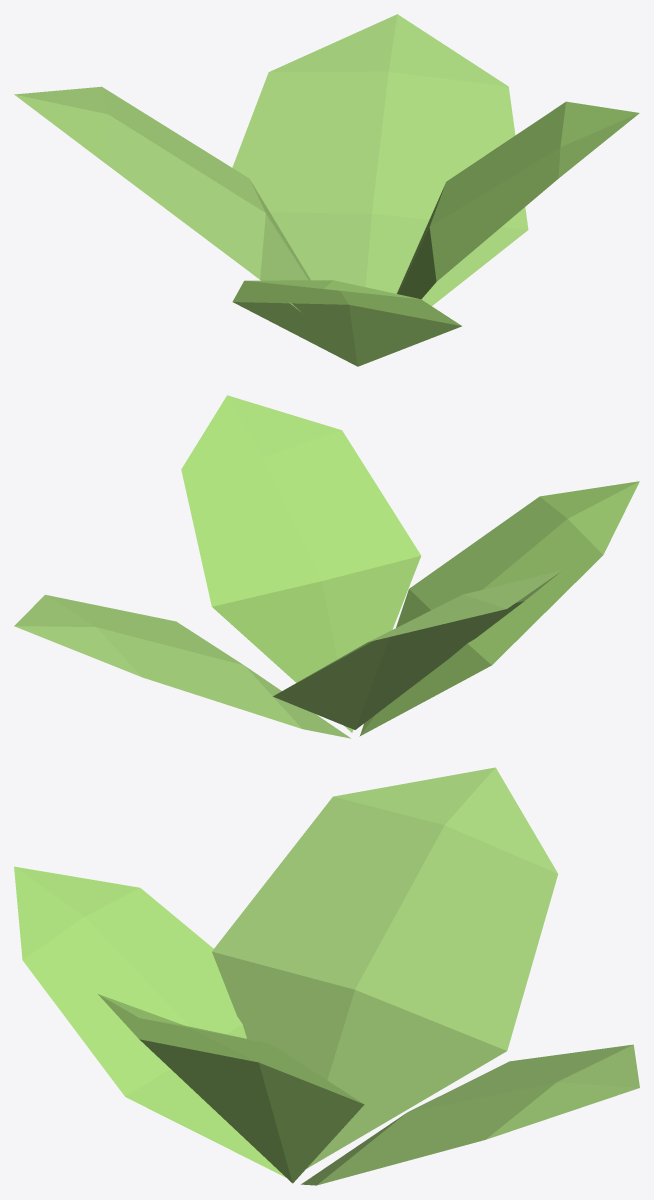
Rendered from Plant_h_OneS_05.fbx.
The picture shows the model from 3 angles, top to bottom: view 1: azimuth 30°, elevation 25°; view 2: azimuth 150°, elevation 25°; view 3: azimuth 270°, elevation 25°; orthographic projection. The views are drawn at different scales.
Parts seen in each view (by area): view 1: Plant_h_OneS_05; view 2: Plant_h_OneS_05; view 3: Plant_h_OneS_05.
Boxes of the visible parts, left/top/right/bottom form: Plant_h_OneS_05: left=14, top=14, right=639, bottom=366; Plant_h_OneS_05: left=14, top=395, right=639, bottom=738; Plant_h_OneS_05: left=14, top=767, right=639, bottom=1185.
Size of the model in its own units: 0.3035 by 0.1568 by 0.3131.
